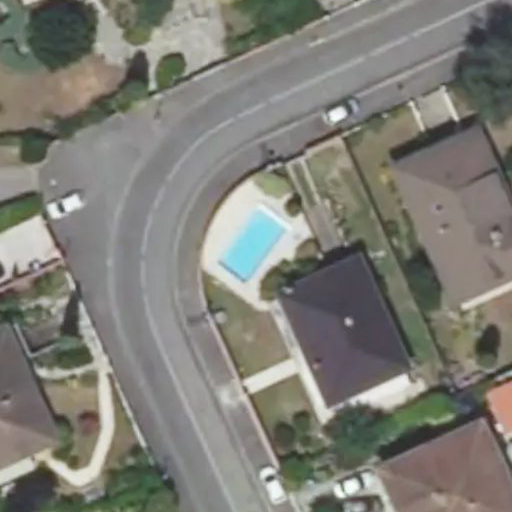pool: (217, 207, 286, 283)
